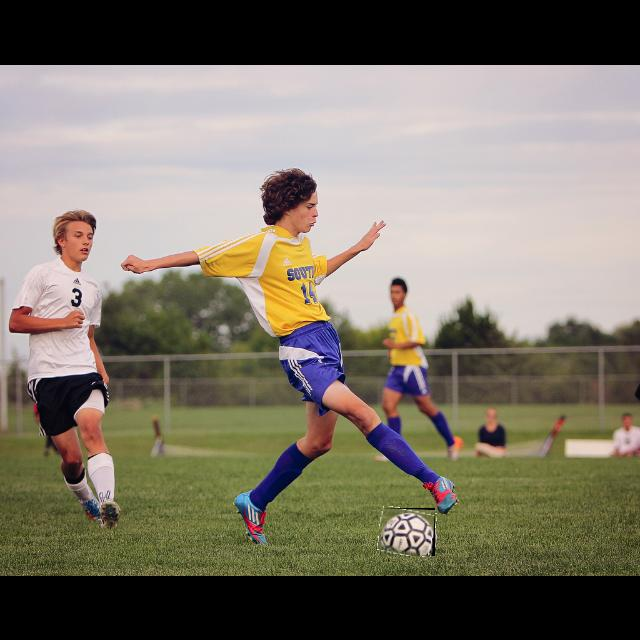Football: (379, 508, 435, 556)
